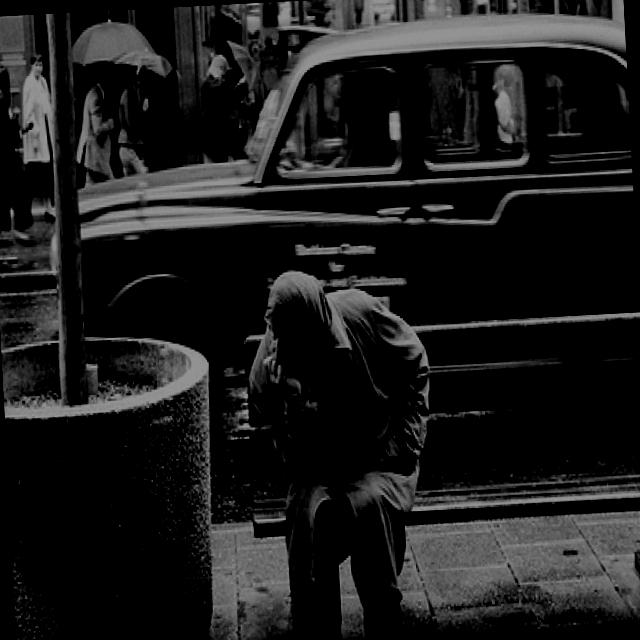Vehicle: (65, 5, 640, 410)
